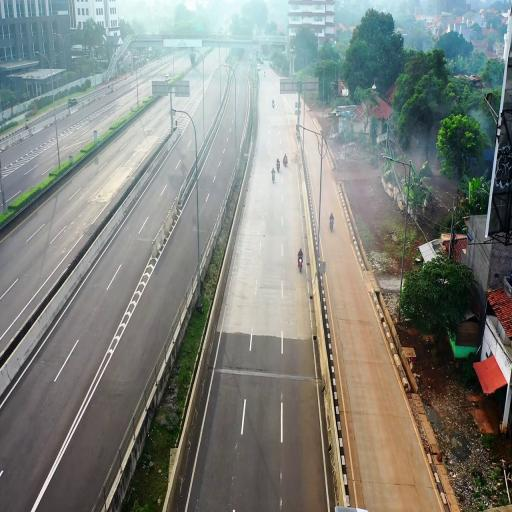vehicle: (298, 248, 304, 272), (330, 213, 334, 230), (276, 158, 280, 172), (283, 154, 287, 166), (272, 167, 275, 182), (272, 100, 274, 107)
